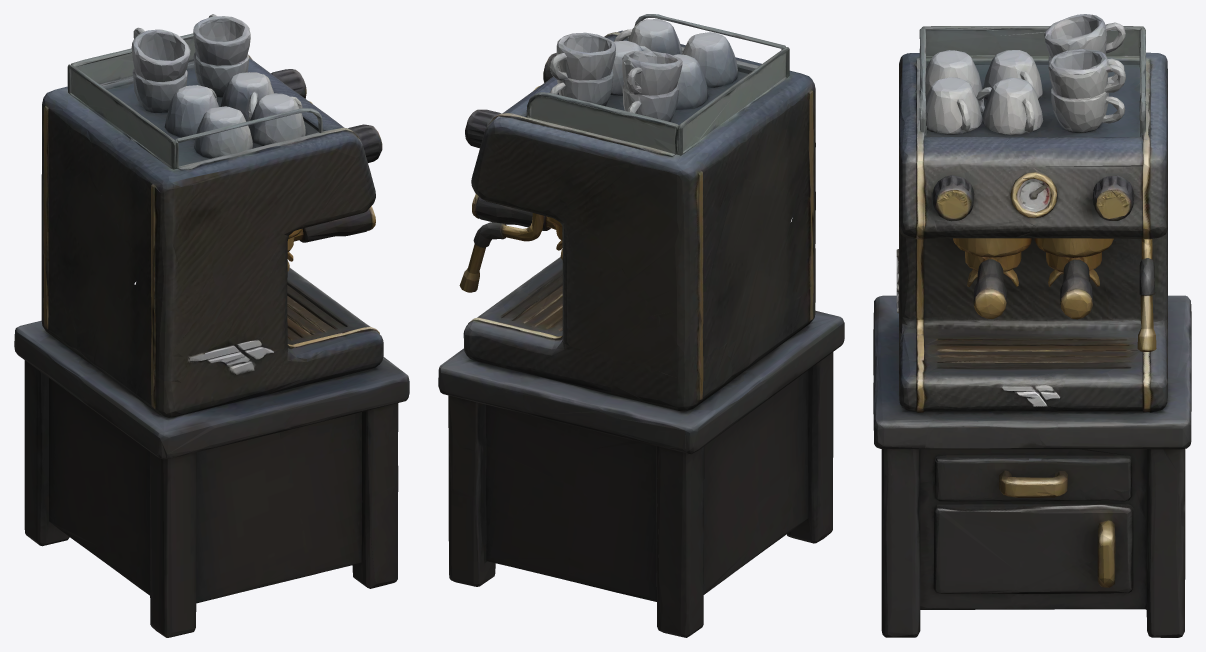
Rendered from coffee-machine-t3.glb.
The picture shows the model from 3 angles, left to right: view 1: azimuth 30°, elevation 25°; view 2: azimuth 150°, elevation 25°; view 3: azimuth 270°, elevation 25°; orthographic projection. The views are drawn at different scales.
Visible parts, largest first — view 1: coffee-machine-t3; view 2: coffee-machine-t3; view 3: coffee-machine-t3.
Boxes of the visible parts, x1,y1,x2,y2 form: coffee-machine-t3: (14, 14, 409, 637); coffee-machine-t3: (438, 14, 844, 637); coffee-machine-t3: (873, 14, 1191, 637).
Size of the model in its own units: 0.7872 by 1.45 by 0.7706.
Materials: 1 (1 with a texture image).
